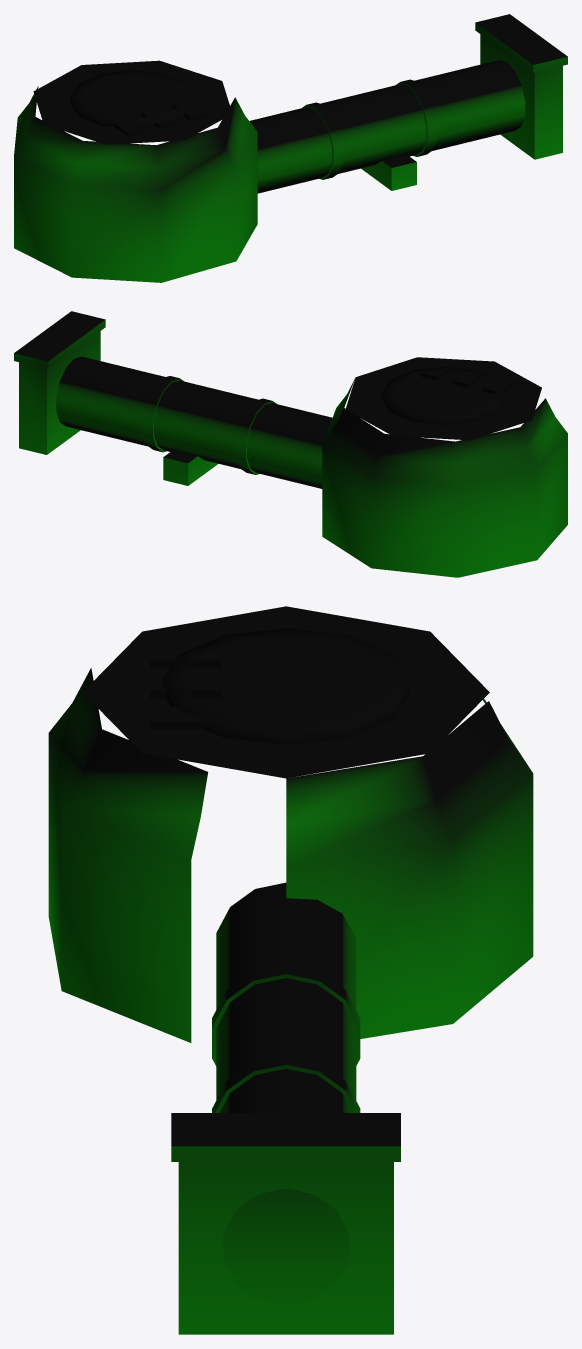
The model's file is endpipe.glb.
3 views of the same model, one above another, from view 1: azimuth 30°, elevation 25°; view 2: azimuth 150°, elevation 25°; view 3: azimuth 270°, elevation 25° (orthographic). The views are drawn at different scales.
Parts seen in each view (by area): view 1: lod0; view 2: lod0; view 3: lod0.
Part boxes in pixels (x1=…): lod0: x1=14, y1=14, x2=567, y2=282; lod0: x1=14, y1=311, x2=567, y2=577; lod0: x1=48, y1=606, x2=533, y2=1334.
Size of what is drawn, in the model's own units: 16.29 by 4.1 by 6.75.
